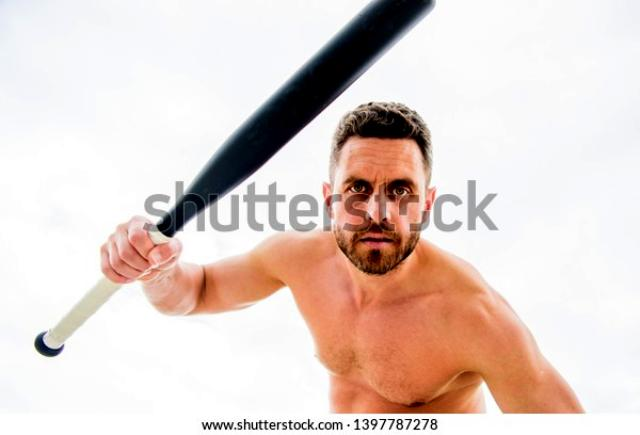baseball bat: (32, 0, 436, 362)
